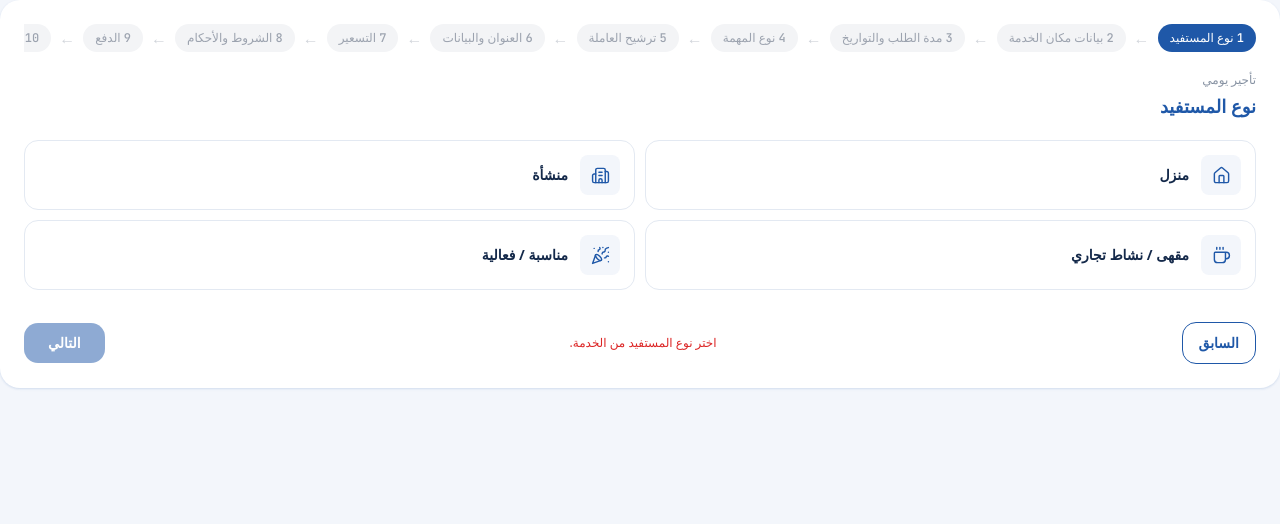
Test: مسار الطلب التفاعلي (Prototype) › يبدأ التأجير اليومي بخطوة نوع المستفيد ويُظهر أنواع المناسبات عند اختيارها
The image size is (1280, 524).
Expected: the button "منزل" is shown, x1=645 y1=140 x2=1256 y2=210
Click the button "مناسبة / فعالية".
click(600, 255)  # box x1=24 y1=220 x2=635 y2=290
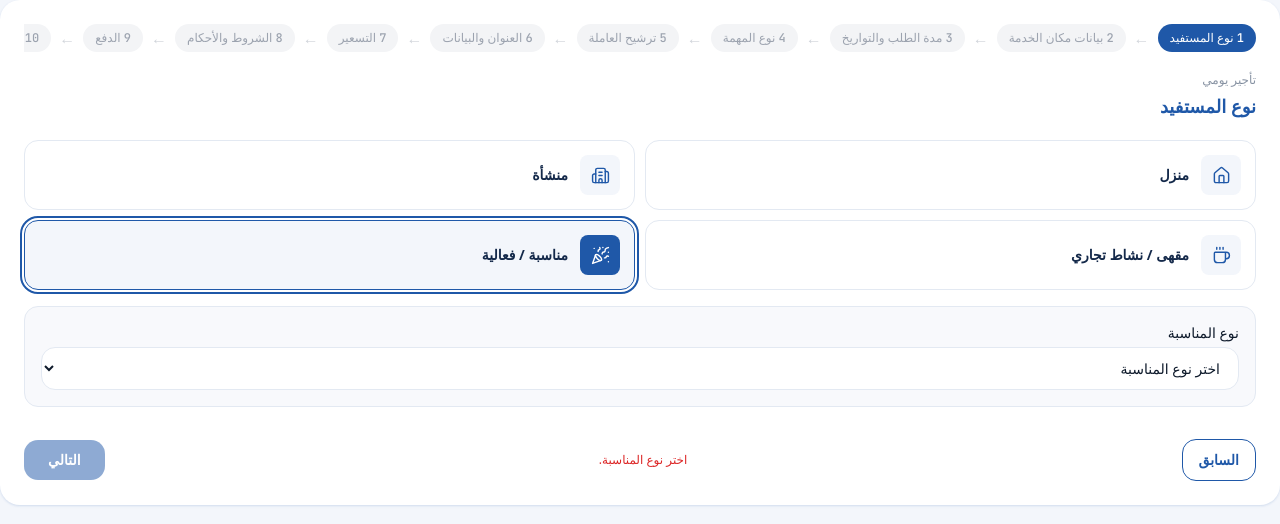
Expected: the dropdown labelled "نوع المناسبة" is shown, x1=41 y1=347 x2=1239 y2=390
